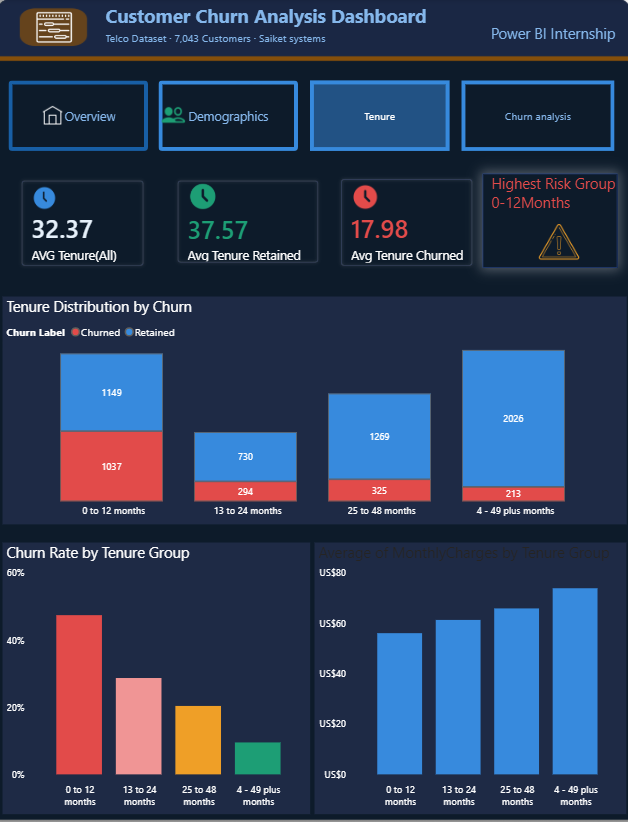

What the dashboard file says about the page in this screenshot:
{"tool":"powerbi","page":{"name":"Page 3","canvas":[816,1056],"ordinal":2},"visuals":[{"type":"cardVisual","fields":{"Data":["Telco_Customer_Churn_Dataset  (.AVG Tenure(All)"]},"box":[9.6,209.1,204.3,157.6],"z":0},{"type":"cardVisual","fields":{"Data":["Telco_Customer_Churn_Dataset  (.Avg Tenure Churned"]},"box":[418.1,207.1,216.7,159.2],"z":1000},{"type":"cardVisual","fields":{"Data":["Telco_Customer_Churn_Dataset  (.Avg Tenure Retained"]},"box":[209,209,228.2,153.4],"z":2000},{"type":"columnChart","title":"Tenure Distribution by Churn","fields":{"Y":["Telco_Customer_Churn_Dataset  (.Total Customers"],"Category":["Telco_Customer_Churn_Dataset  (.Tenure Group"],"Series":["Telco_Customer_Churn_Dataset  (.Churn Label"]},"box":[9.6,381.6,797.8,291.5],"z":3000},{"type":"columnChart","fields":{"Category":["Telco_Customer_Churn_Dataset  (.Tenure Group"],"Y":["Telco_Customer_Churn_Dataset  (.Churn Rate"]},"box":[9.6,696.1,393.1,347.1],"z":4000},{"type":"columnChart","fields":{"Category":["Telco_Customer_Churn_Dataset  (.Tenure Group"],"Y":["Avg(Telco_Customer_Churn_Dataset  (.MonthlyCharges)"]},"box":[408.5,696.1,398.9,347.1],"z":5000},{"type":"image","title":"Highest Risk Group 0-12Months","box":[634.8,224.8,172.6,120.8],"z":6000},{"type":"actionButton","title":"Page 1","box":[17.3,105.5,178.3,90.1],"z":7000},{"type":"textbox","box":[136.2,0,512,53.7],"z":8000,"group":"g1"},{"type":"actionButton","title":"Page 2","box":[209,105.5,178.3,90.1],"z":8000},{"type":"textbox","box":[136.2,36.4,301.1,34.5],"z":9000,"group":"g1"},{"type":"actionButton","title":"Page 3","box":[402.7,105.5,178.3,90.1],"z":9000},{"type":"textbox","box":[628.1,26.8,187.9,53.7],"z":10000,"group":"g1"},{"type":"actionButton","title":"Page 3","box":[596.4,105.5,195.6,90.1],"z":10000},{"type":"shape","box":[623.3,224.4,172.6,120.8],"z":11000},{"type":"group","id":"g1","title":"Group 2","box":[136.2,0,679.8,80.5],"z":12000},{"type":"image","box":[40.3,11.5,71,51.8],"z":13000}]}

Visuals, with their boxes in screenshot pixels (x1, y1, x2, y2), scaled from the page's 816x1056 canvas onto the 628x822 screenshot:
cardVisual - Telco_Customer_Churn_Dataset  (.AVG Tenure(All): [x1=7, y1=163, x2=165, y2=285]
cardVisual - Telco_Customer_Churn_Dataset  (.Avg Tenure Churned: [x1=322, y1=161, x2=489, y2=285]
cardVisual - Telco_Customer_Churn_Dataset  (.Avg Tenure Retained: [x1=161, y1=163, x2=336, y2=282]
"Tenure Distribution by Churn" columnChart: [x1=7, y1=297, x2=621, y2=524]
columnChart - Telco_Customer_Churn_Dataset  (.Tenure Group x Telco_Customer_Churn_Dataset  (.Churn Rate: [x1=7, y1=542, x2=310, y2=812]
columnChart - Telco_Customer_Churn_Dataset  (.Tenure Group x Avg(Telco_Customer_Churn_Dataset  (.MonthlyCharges): [x1=314, y1=542, x2=621, y2=812]
"Highest Risk Group 0-12Months" image: [x1=489, y1=175, x2=621, y2=269]
"Page 1" actionButton: [x1=13, y1=82, x2=151, y2=152]
textbox: [x1=105, y1=0, x2=499, y2=42]
"Page 2" actionButton: [x1=161, y1=82, x2=298, y2=152]
textbox: [x1=105, y1=28, x2=337, y2=55]
"Page 3" actionButton: [x1=310, y1=82, x2=447, y2=152]
textbox: [x1=483, y1=21, x2=627, y2=63]
"Page 3" actionButton: [x1=459, y1=82, x2=610, y2=152]
shape: [x1=480, y1=175, x2=613, y2=269]
"Group 2" group: [x1=105, y1=0, x2=627, y2=63]
image: [x1=31, y1=9, x2=86, y2=49]
